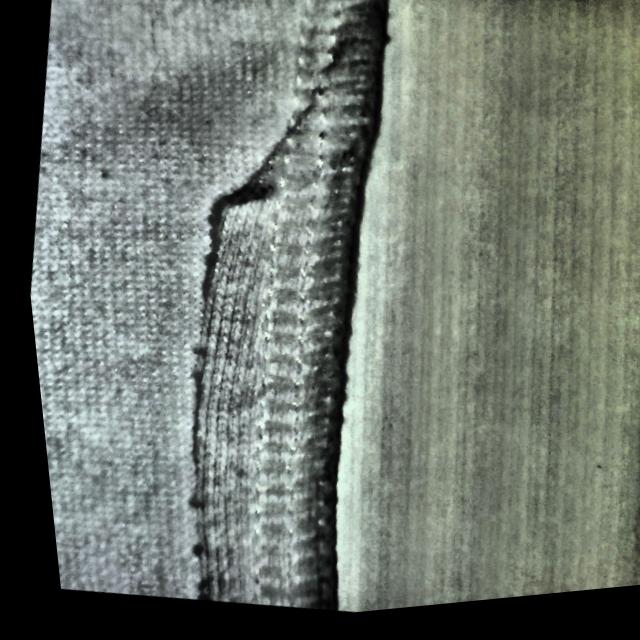seam: (86, 132, 397, 630)
